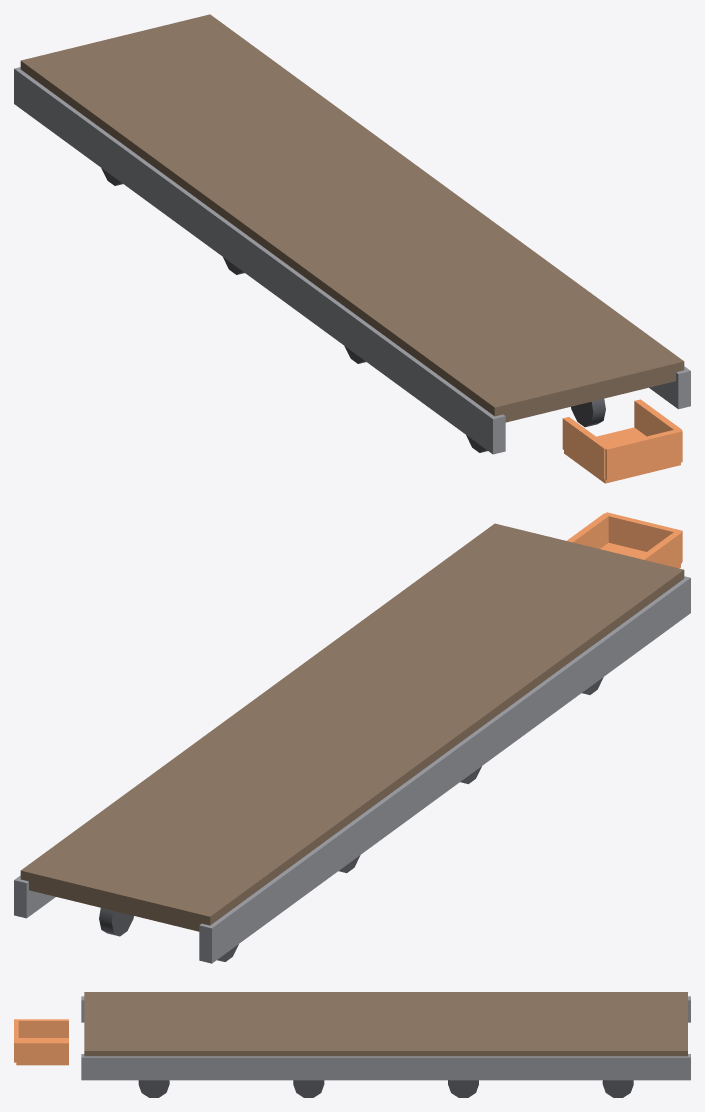
File: build_minecart_4.glb
3 renders of one model, top to bottom at view 1: azimuth 30°, elevation 25°; view 2: azimuth 150°, elevation 25°; view 3: azimuth 270°, elevation 25°, orthographic. The views are drawn at different scales.
Parts seen in each view (by area): view 1: Baked; view 2: Baked; view 3: Baked.
Boxes of the visible parts, x1,y1,x2,y2 form: Baked: (14, 14, 690, 483); Baked: (14, 512, 690, 963); Baked: (14, 992, 690, 1097).
Bounding box in the file's own units: 0.94 × 0.4151 × 4.38.
